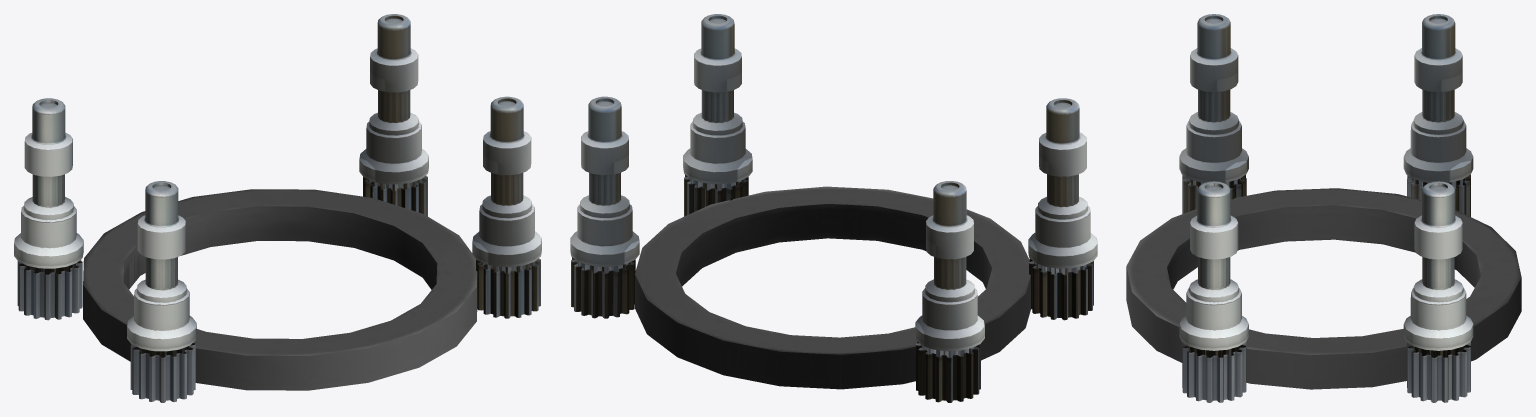
The model's file is windpowergenerator_inside_2001_04.obj.
The picture shows the model from 3 angles, left to right: view 1: azimuth 30°, elevation 25°; view 2: azimuth 150°, elevation 25°; view 3: azimuth 270°, elevation 25°; orthographic projection.
Parts seen in each view (by area): view 1: pasted__pCylinder197; view 2: pasted__pCylinder197; view 3: pasted__pCylinder197.
Part boxes in pixels (bbox=[...]): pasted__pCylinder197: bbox=[14, 14, 541, 402]; pasted__pCylinder197: bbox=[570, 14, 1097, 402]; pasted__pCylinder197: bbox=[1126, 14, 1521, 402].
Size of the model in its own units: 400 by 192 by 340.
1 material, 1 textured.
